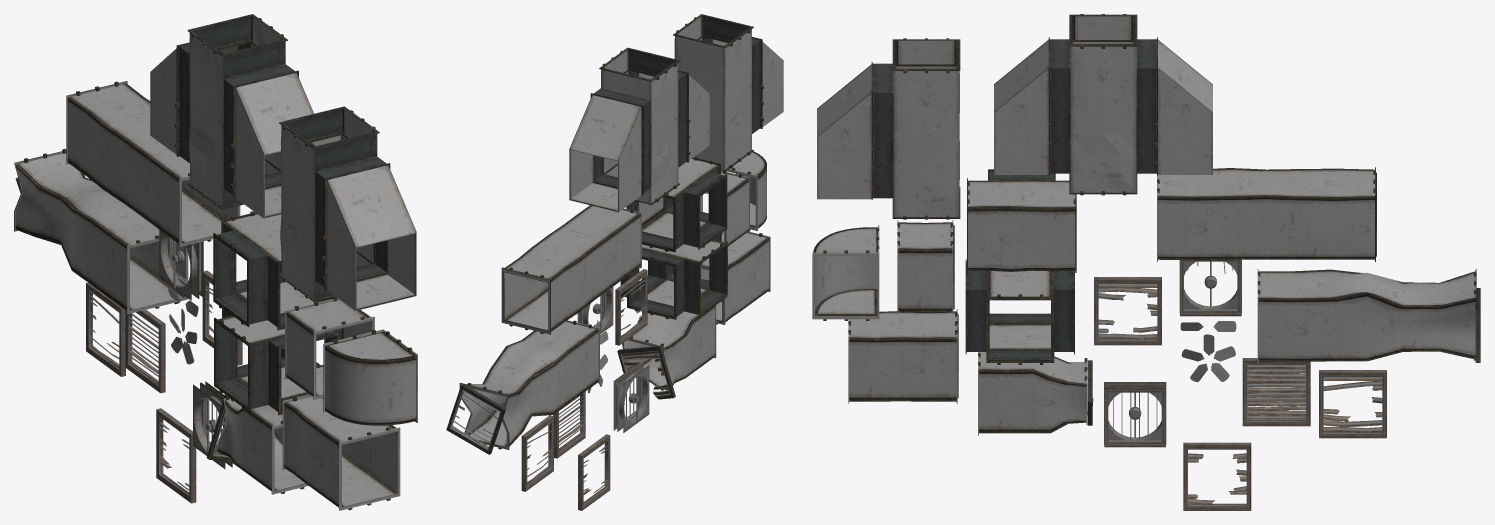
The model's file is vent_crawl.glb.
The picture shows the model from 3 angles, left to right: view 1: azimuth 30°, elevation 25°; view 2: azimuth 150°, elevation 25°; view 3: azimuth 270°, elevation 25°; orthographic projection. The views are drawn at different scales.
Visible parts, largest first — view 1: SM_Walkable_Vent_3WayJump.mo, SM_Walkable_Vent_4WayJump.mo, SM_Walkable_Vent_4m_Bent.mo, SM_Walkable_Vent_4m.mo, SM_Walkable_Vent_2m.mo, SM_Walkable_Vent_Corner.mo, SM_Walkable_Vent_3Way.mo, SM_Walkable_Vent_4Way.mo, SM_Walkable_Vent_2m_Bent.mo, SM_Walkable_Vent_1m.mo, SM_Walkable_Vent_Grate_A.mo, SM_Walkable_Vent_Fan_Case_Broken.mo_MI_MetalDetailTrimA.004_ (+5 smaller); view 2: SM_Walkable_Vent_4WayJump.mo, SM_Walkable_Vent_4m.mo, SM_Walkable_Vent_4m_Bent.mo, SM_Walkable_Vent_3WayJump.mo, SM_Walkable_Vent_4Way.mo, SM_Walkable_Vent_3Way.mo, SM_Walkable_Vent_2m_Bent.mo, SM_Walkable_Vent_2m.mo, SM_Walkable_Vent_Fan_Case.mo, SM_Walkable_Vent_1m.mo, SM_Walkable_Vent_Corner.mo, SM_Walkable_Vent_Grate_C.mo (+4 smaller); view 3: SM_Walkable_Vent_4WayJump.mo, SM_Walkable_Vent_3WayJump.mo, SM_Walkable_Vent_4m.mo, SM_Walkable_Vent_4m_Bent.mo, SM_Walkable_Vent_3Way.mo, SM_Walkable_Vent_2m.mo, SM_Walkable_Vent_4Way.mo, SM_Walkable_Vent_2m_Bent.mo, SM_Walkable_Vent_Corner.mo, SM_Walkable_Vent_1m.mo, SM_Walkable_Vent_Grate_A.mo, SM_Walkable_Vent_Grate_C.mo (+5 smaller).
Part boxes in pixels (<box>): SM_Walkable_Vent_3WayJump.mo: <box>279,106,416,310</box>; SM_Walkable_Vent_4WayJump.mo: <box>150,14,313,218</box>; SM_Walkable_Vent_4m_Bent.mo: <box>14,148,188,314</box>; SM_Walkable_Vent_4m.mo: <box>66,81,240,246</box>; SM_Walkable_Vent_2m.mo: <box>282,394,400,510</box>; SM_Walkable_Vent_Corner.mo: <box>323,329,417,425</box>; SM_Walkable_Vent_3Way.mo: <box>213,211,332,330</box>; SM_Walkable_Vent_4Way.mo: <box>214,308,341,415</box>; SM_Walkable_Vent_2m_Bent.mo: <box>206,394,308,494</box>; SM_Walkable_Vent_1m.mo: <box>285,297,374,399</box>; SM_Walkable_Vent_Grate_A.mo: <box>125,310,165,393</box>; SM_Walkable_Vent_Fan_Case_Broken.mo_MI_MetalDetailTrimA.004_: <box>159,230,203,300</box>; SM_Walkable_Vent_4WayJump.mo: <box>569,47,709,212</box>; SM_Walkable_Vent_4m.mo: <box>501,205,641,334</box>; SM_Walkable_Vent_4m_Bent.mo: <box>446,320,599,454</box>; SM_Walkable_Vent_3WayJump.mo: <box>673,14,783,171</box>; SM_Walkable_Vent_4Way.mo: <box>620,234,727,319</box>; SM_Walkable_Vent_3Way.mo: <box>626,156,727,252</box>; SM_Walkable_Vent_2m_Bent.mo: <box>617,305,716,399</box>; SM_Walkable_Vent_2m.mo: <box>701,232,770,324</box>; SM_Walkable_Vent_Fan_Case.mo: <box>613,362,649,432</box>; SM_Walkable_Vent_1m.mo: <box>700,170,749,246</box>; SM_Walkable_Vent_Corner.mo: <box>727,151,766,230</box>; SM_Walkable_Vent_Grate_C.mo: <box>521,415,553,491</box>; SM_Walkable_Vent_4WayJump.mo: <box>994,14,1212,195</box>; SM_Walkable_Vent_3WayJump.mo: <box>817,38,960,219</box>; SM_Walkable_Vent_4m.mo: <box>1157,167,1376,261</box>; SM_Walkable_Vent_4m_Bent.mo: <box>1257,269,1480,363</box>; SM_Walkable_Vent_3Way.mo: <box>967,169,1076,272</box>; SM_Walkable_Vent_2m.mo: <box>848,309,958,403</box>; SM_Walkable_Vent_4Way.mo: <box>965,259,1074,364</box>; SM_Walkable_Vent_2m_Bent.mo: <box>978,352,1093,435</box>; SM_Walkable_Vent_Corner.mo: <box>812,225,879,320</box>; SM_Walkable_Vent_1m.mo: <box>897,220,954,314</box>; SM_Walkable_Vent_Grate_A.mo: <box>1242,358,1310,426</box>; SM_Walkable_Vent_Grate_C.mo: <box>1319,370,1386,438</box>.
Size of the model in its own units: 2 by 9.69 by 12.21.
Materials: 18 (18 with a texture image).
